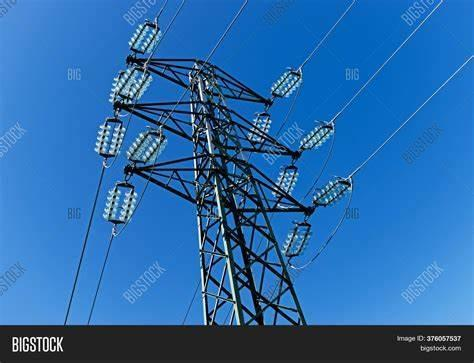power_tower: (102, 17, 363, 327)
